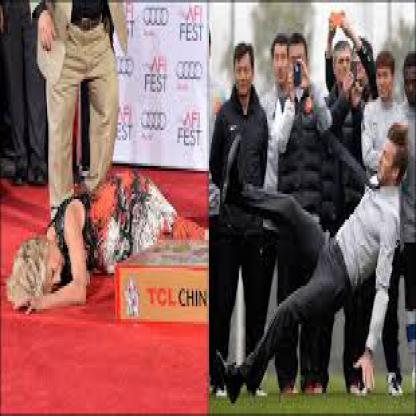Fall_Down: (214, 119, 411, 400)
